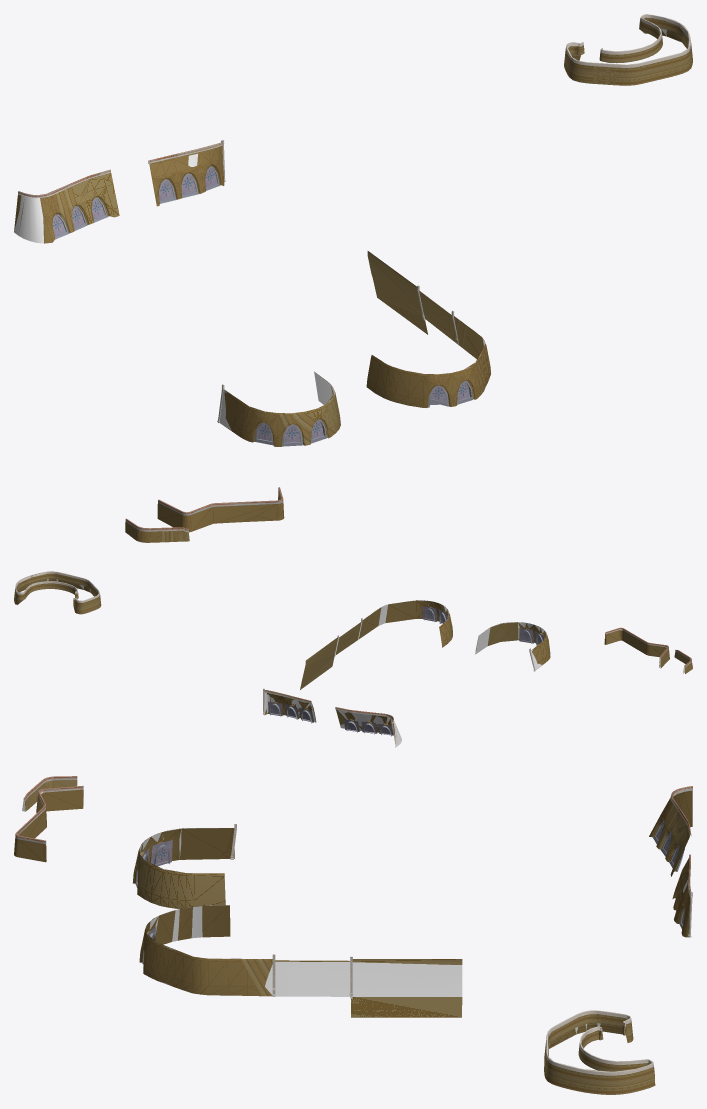
The model's file is objects_un_c01squarewall01.gltf.
3 renders of one model, top to bottom at view 1: azimuth 30°, elevation 25°; view 2: azimuth 150°, elevation 25°; view 3: azimuth 270°, elevation 25°, orthographic. The views are drawn at different scales.
Parts seen in each view (by area): view 1: um_objects_un_c01squarewall01_model_lod0Shape:objects_un_c01 (×5), um_objects_un_c01squarewall01_model_lod1Shape:objects_un_c01 (×2), um_objects_un_c01squarewall01_model_lod2Shape:objects_un_c01; view 2: um_objects_un_c01squarewall01_model_lod0Shape:objects_un_c01 (×5), um_objects_un_c01squarewall01_model_lod1Shape:objects_un_c01 (×2), um_objects_un_c01squarewall01_model_lod2Shape:objects_un_c01; view 3: um_objects_un_c01squarewall01_model_lod0Shape:objects_un_c01 (×4), um_objects_un_c01squarewall01_model_lod1Shape:objects_un_c01 (×2), um_objects_un_c01squarewall01_model_lod2Shape:objects_un_c01.
Part boxes in pixels (<box>): um_objects_un_c01squarewall01_model_lod0Shape:objects_un_c01 (×5): <box>14,14,692,542</box>; um_objects_un_c01squarewall01_model_lod1Shape:objects_un_c01 (×2): <box>18,14,689,528</box>; um_objects_un_c01squarewall01_model_lod2Shape:objects_un_c01: <box>52,31,687,536</box>; um_objects_un_c01squarewall01_model_lod0Shape:objects_un_c01 (×5): <box>14,571,692,747</box>; um_objects_un_c01squarewall01_model_lod1Shape:objects_un_c01 (×2): <box>16,571,691,732</box>; um_objects_un_c01squarewall01_model_lod2Shape:objects_un_c01: <box>16,579,676,726</box>; um_objects_un_c01squarewall01_model_lod0Shape:objects_un_c01 (×4): <box>14,776,692,1094</box>; um_objects_un_c01squarewall01_model_lod1Shape:objects_un_c01 (×2): <box>16,776,692,1071</box>; um_objects_un_c01squarewall01_model_lod2Shape:objects_un_c01: <box>25,795,689,1041</box>.
Size of the model in its own units: 283 by 44.33 by 190.
Materials: 5 (4 with a texture image).
